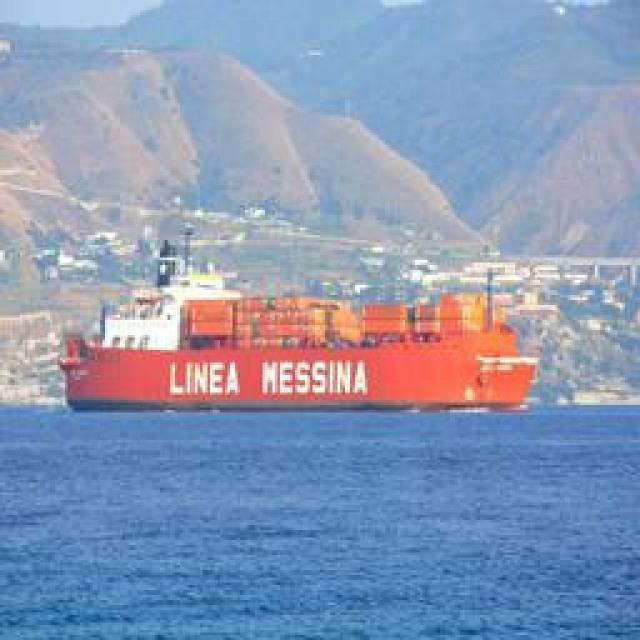Ship: (60, 286, 550, 416)
